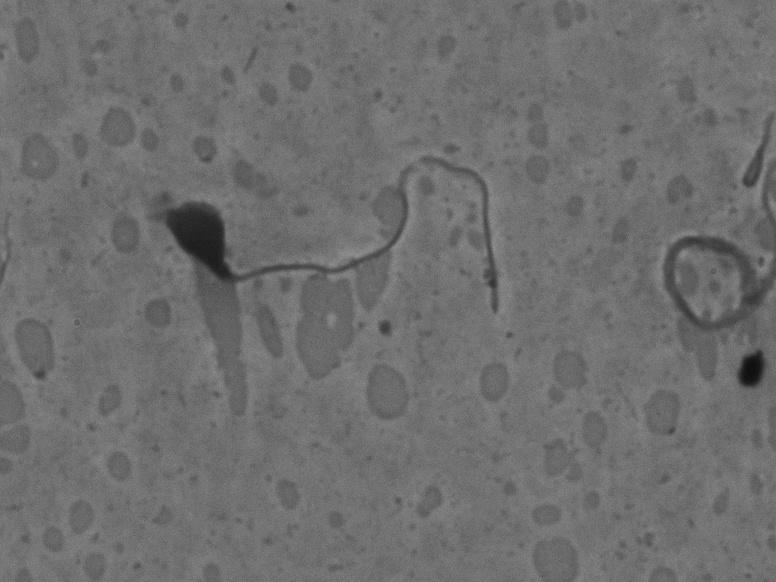Abnormal: (130, 121, 515, 359)
